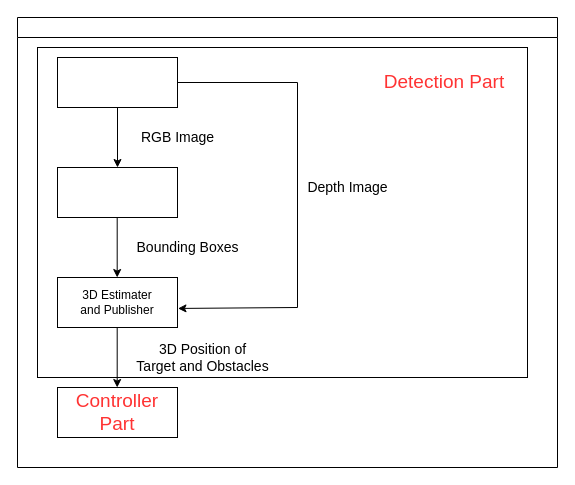
This 575x485 diagram has some shape labels left out. Here are the shapes that lost their labels. From the top down, the centre of each, then its label:
pixel 117 82: Realsense Camera
pixel 117 192: Deep Sort
